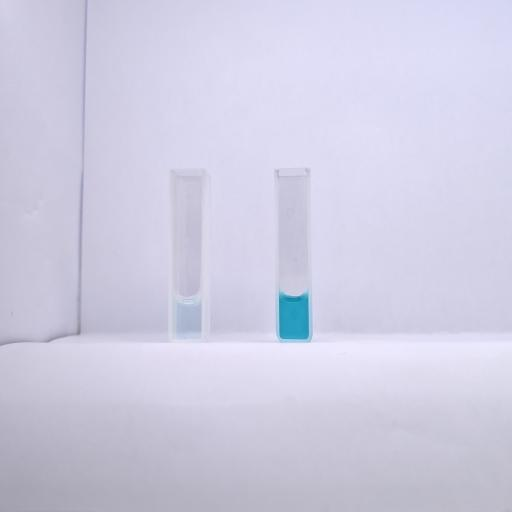cuvette: (272, 166, 314, 344), (167, 166, 207, 344)
liquid: (279, 294, 308, 339), (173, 296, 201, 338)
